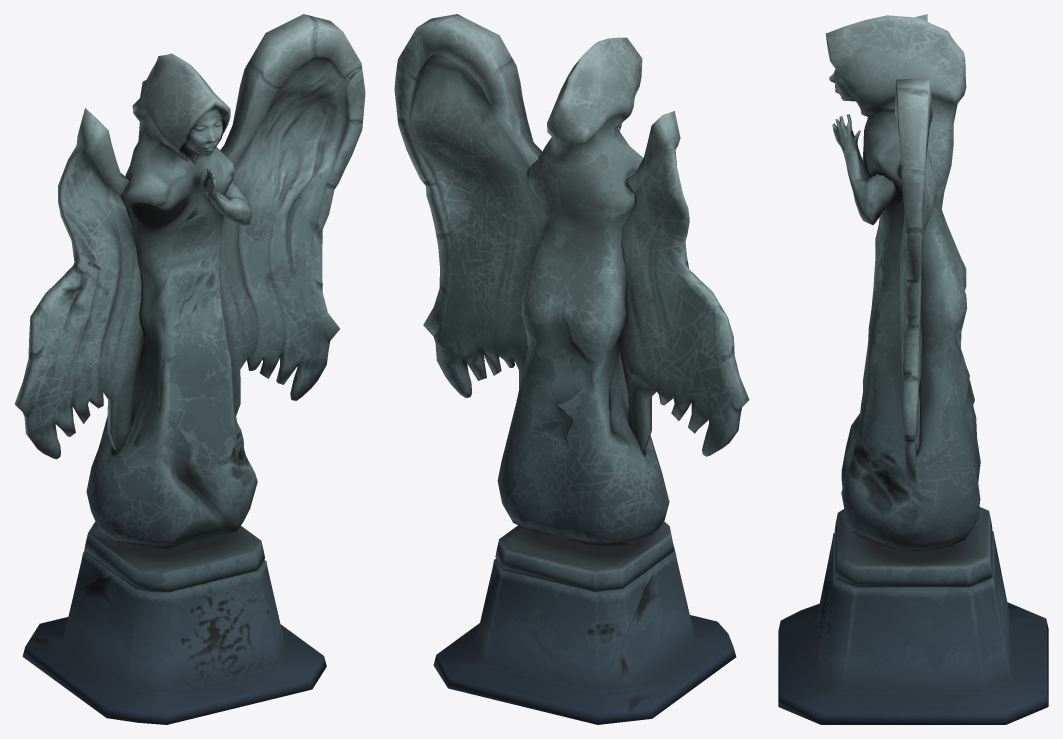
File: AngelStatue.glb
3 renders of one model, left to right at view 1: azimuth 30°, elevation 25°; view 2: azimuth 150°, elevation 25°; view 3: azimuth 270°, elevation 25°, orthographic. The views are drawn at different scales.
Parts seen in each view (by area): view 1: Wings_LP, Robes_LP, Base_LP, Arms_LP, Face_LP; view 2: Wings_LP, Robes_LP, Base_LP; view 3: Robes_LP, Base_LP, Wings_LP, Arms_LP.
Part boxes in pixels (bbox=[...]): Wings_LP: bbox=[14, 14, 365, 459]; Robes_LP: bbox=[86, 53, 257, 548]; Base_LP: bbox=[22, 521, 326, 724]; Arms_LP: bbox=[203, 166, 252, 226]; Face_LP: bbox=[181, 106, 223, 163]; Wings_LP: bbox=[394, 14, 749, 456]; Robes_LP: bbox=[497, 37, 669, 546]; Base_LP: bbox=[433, 521, 736, 724]; Robes_LP: bbox=[825, 15, 980, 550]; Base_LP: bbox=[778, 507, 1048, 724]; Wings_LP: bbox=[894, 14, 937, 481]; Arms_LP: bbox=[832, 114, 897, 224].
Size of the model in its own units: 5.67 by 9.57 by 3.57.
Materials: 1 (1 with a texture image).
